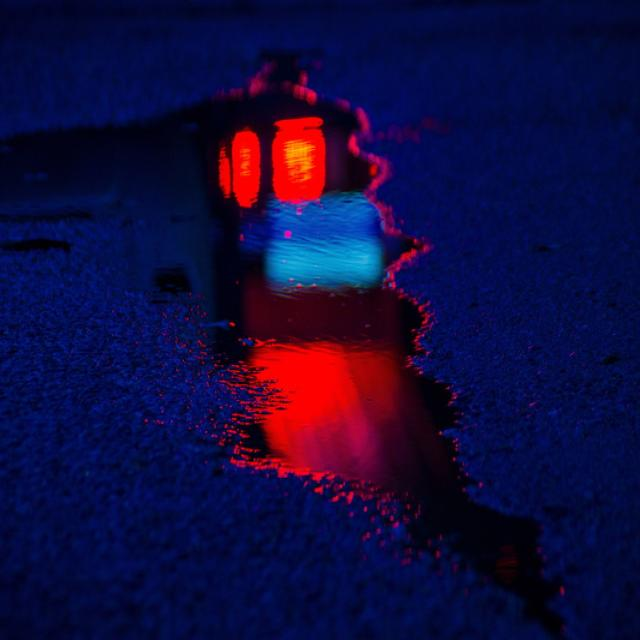pothole: (125, 52, 473, 544)
